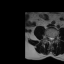CCS_normal: (50, 35, 52, 42)
LFS_normal: (53, 35, 55, 40)
LLS_normal: (52, 35, 53, 42)
RFS_normal: (47, 34, 49, 39)
RLS_normal: (49, 35, 50, 41)
